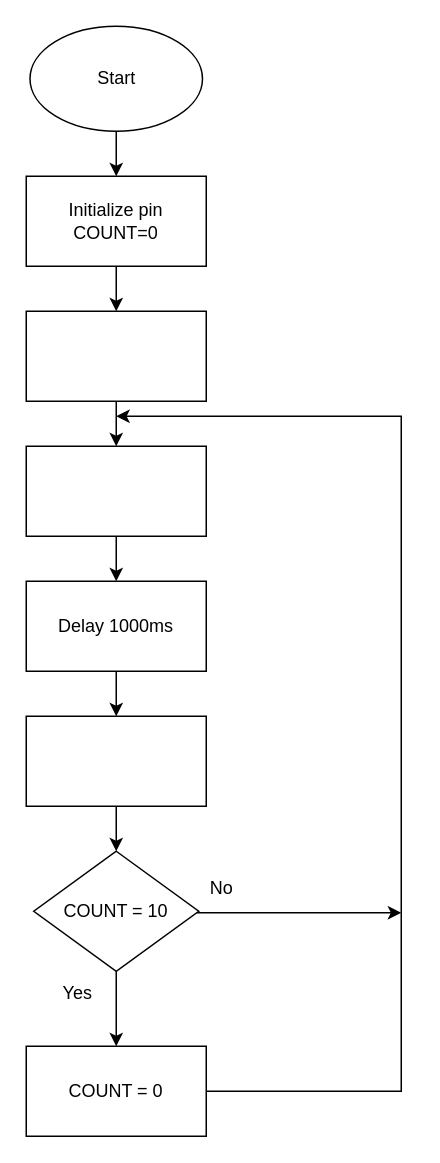
Image size: 440x1163. Some labels were removed from this diagram. The centre of each missing label's shape, as x and y in pixels:
"COUNT++" belongs at (x=115, y=760).
"Setup Output 2-8" belongs at (x=115, y=355).
"Show Number (switch 0-9)" belongs at (x=115, y=490).
